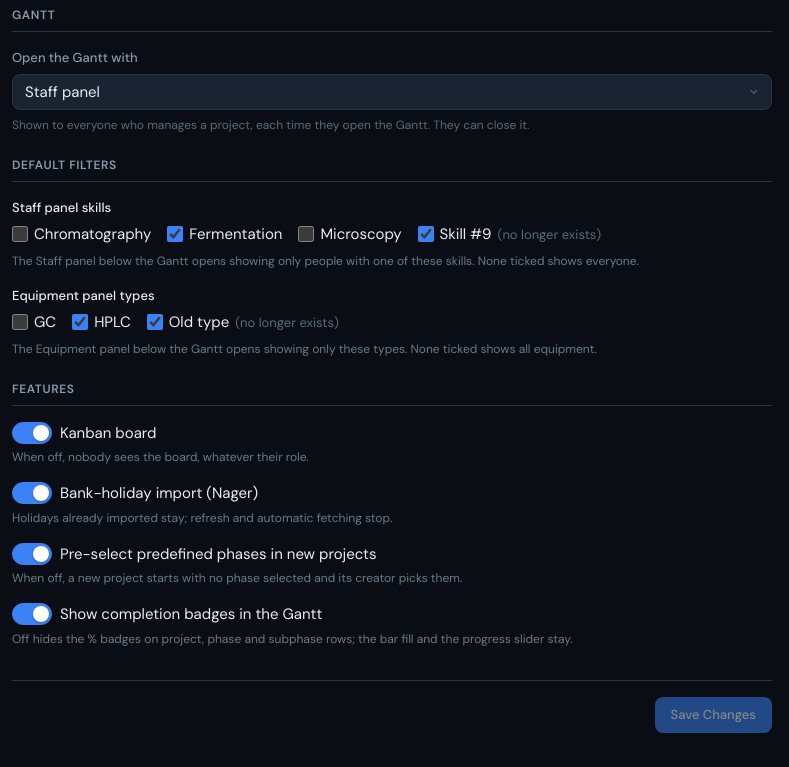
DefaultsPanel › turns the Gantt completion badges off (on by default, with what stays)
Expected: the dropdown labelled "Open the Gantt with" is shown, [12, 74, 772, 110]
Expected: the text "Off hides the % badges on project, phase and subphase rows; the bar fill and the progress slider stay." is shown, [12, 630, 573, 646]
What coordinates should you click on to do the following:
click the switch labelled "Show completion badges in the Gantt"
I would click on:
 (19, 614)
Its box is [11, 606, 27, 622].
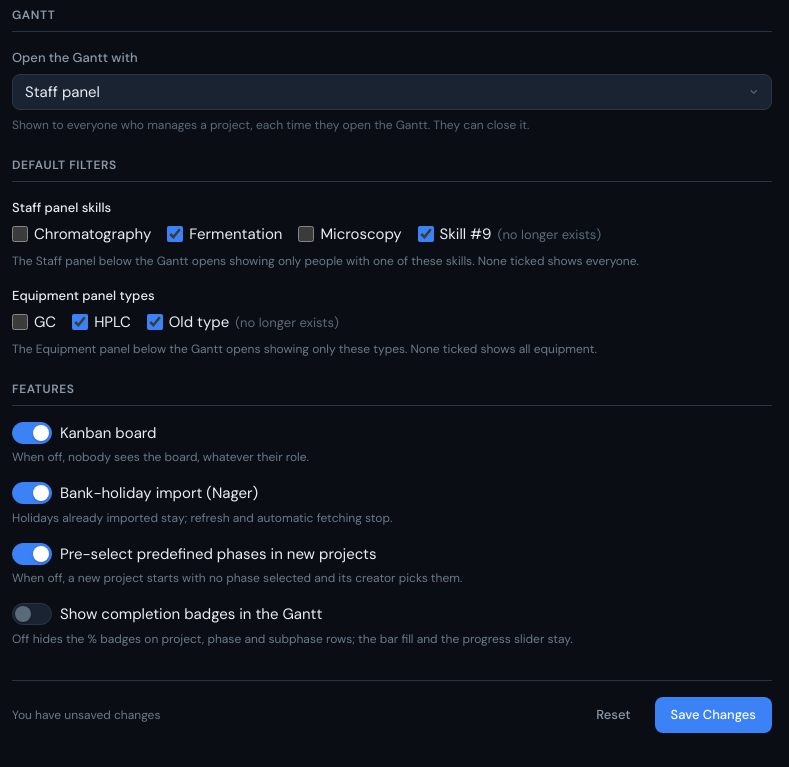
What coordinates should you click on to do the following:
click the button "Save Changes"
I would click on:
 (713, 714)
Its box is [655, 696, 772, 732].
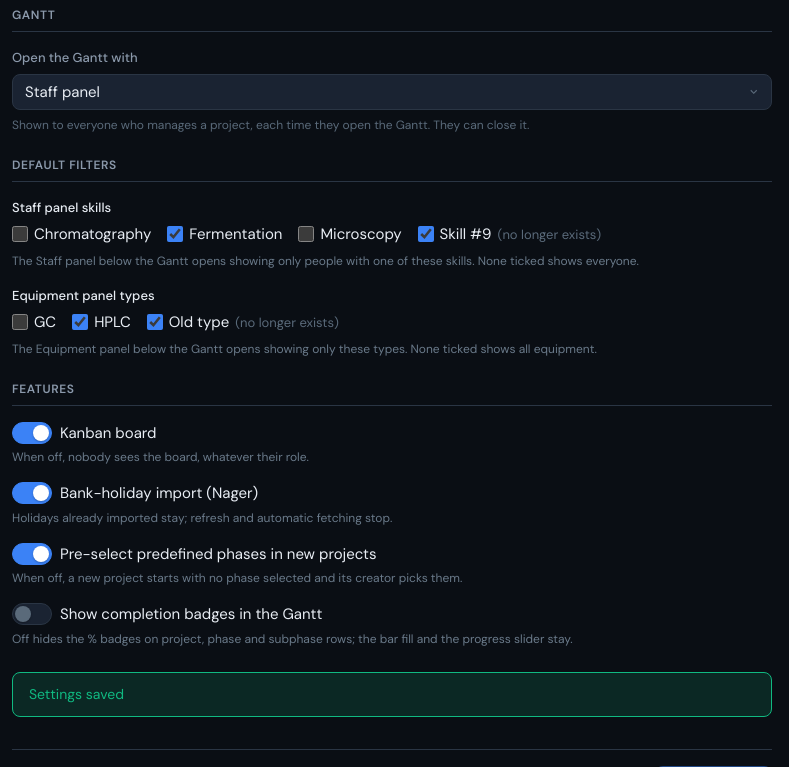
Expected: the text "Settings saved" is shown, [29, 684, 124, 702]
